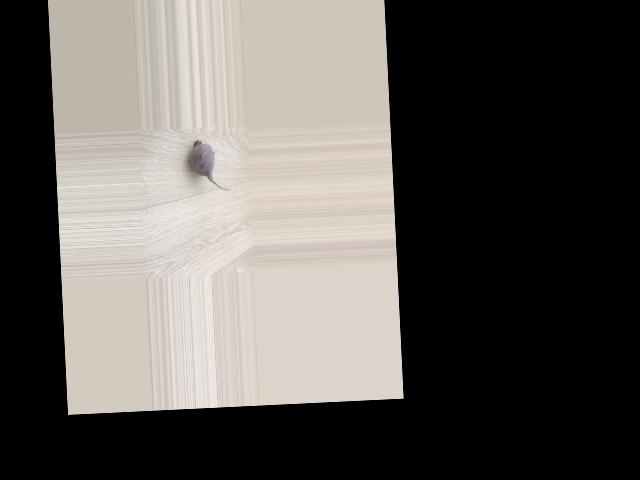beet: (189, 139, 230, 193)
